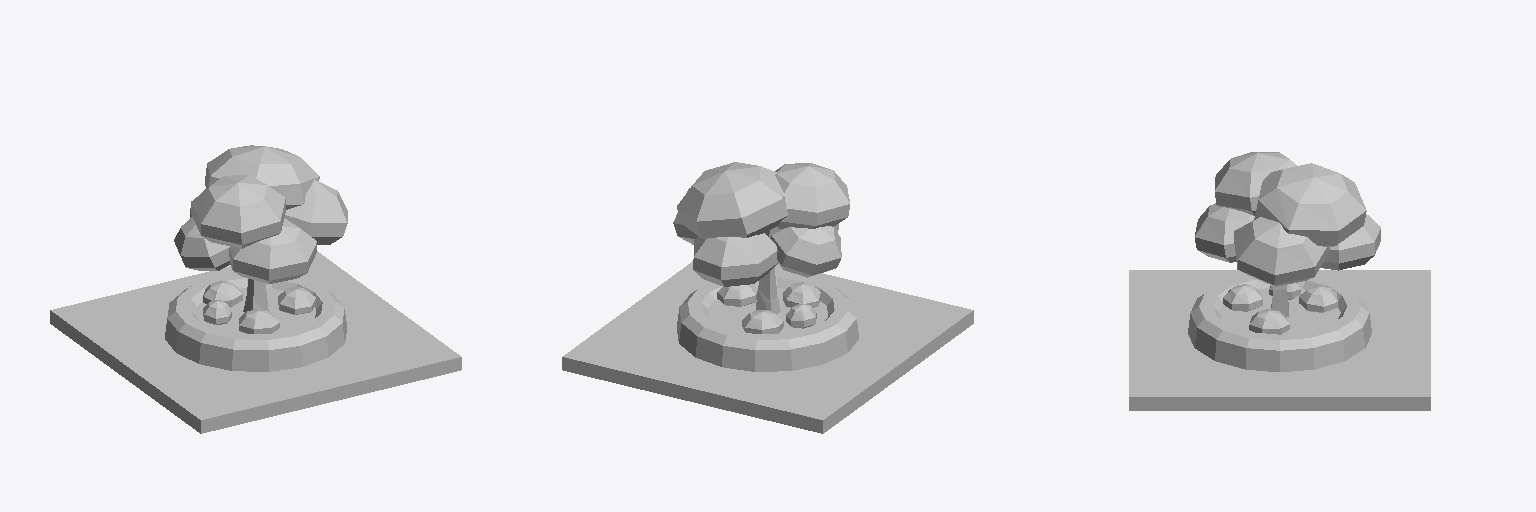
File: park_road_junction_decorated_B.obj
3 renders of one model, left to right at view 1: azimuth 30°, elevation 25°; view 2: azimuth 150°, elevation 25°; view 3: azimuth 270°, elevation 25°, orthographic.
Parts seen in each view (by area): view 1: park_road_junction_decorated_B_Cube.14209; view 2: park_road_junction_decorated_B_Cube.14209; view 3: park_road_junction_decorated_B_Cube.14209.
Part boxes in pixels (x1,y1,x2,y2): park_road_junction_decorated_B_Cube.14209: (50, 145, 461, 433); park_road_junction_decorated_B_Cube.14209: (562, 162, 973, 433); park_road_junction_decorated_B_Cube.14209: (1129, 152, 1430, 410).
Bounding box in the file's own units: 2 × 1.34 × 2.